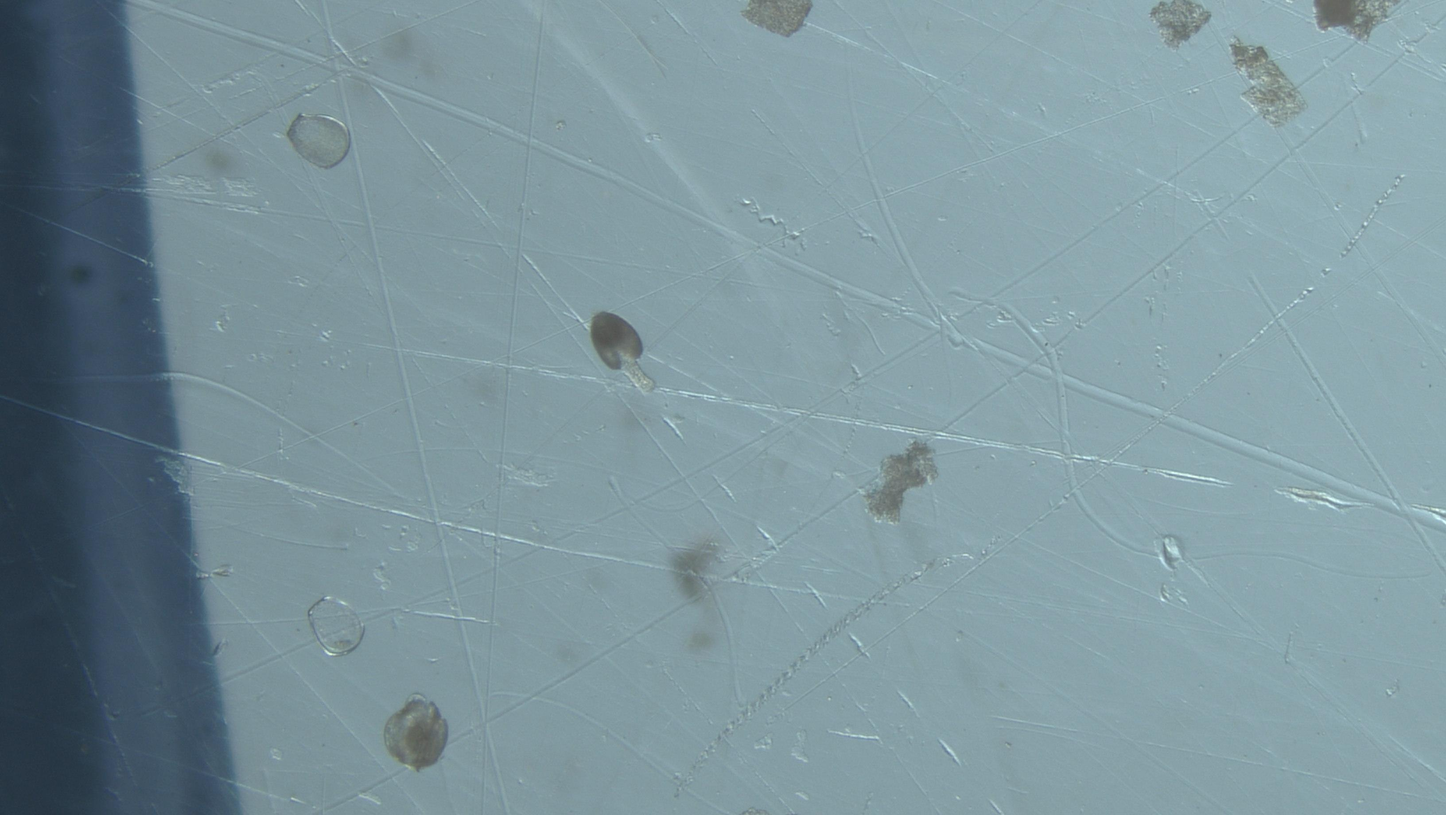dead: (286, 113, 351, 170), (307, 597, 365, 657)
live: (587, 312, 655, 392), (383, 695, 448, 772)
